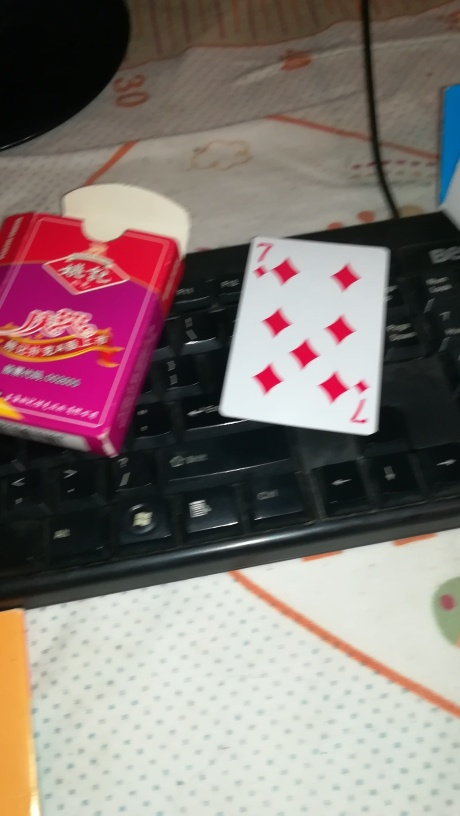fk 7: (219, 236, 392, 434)
